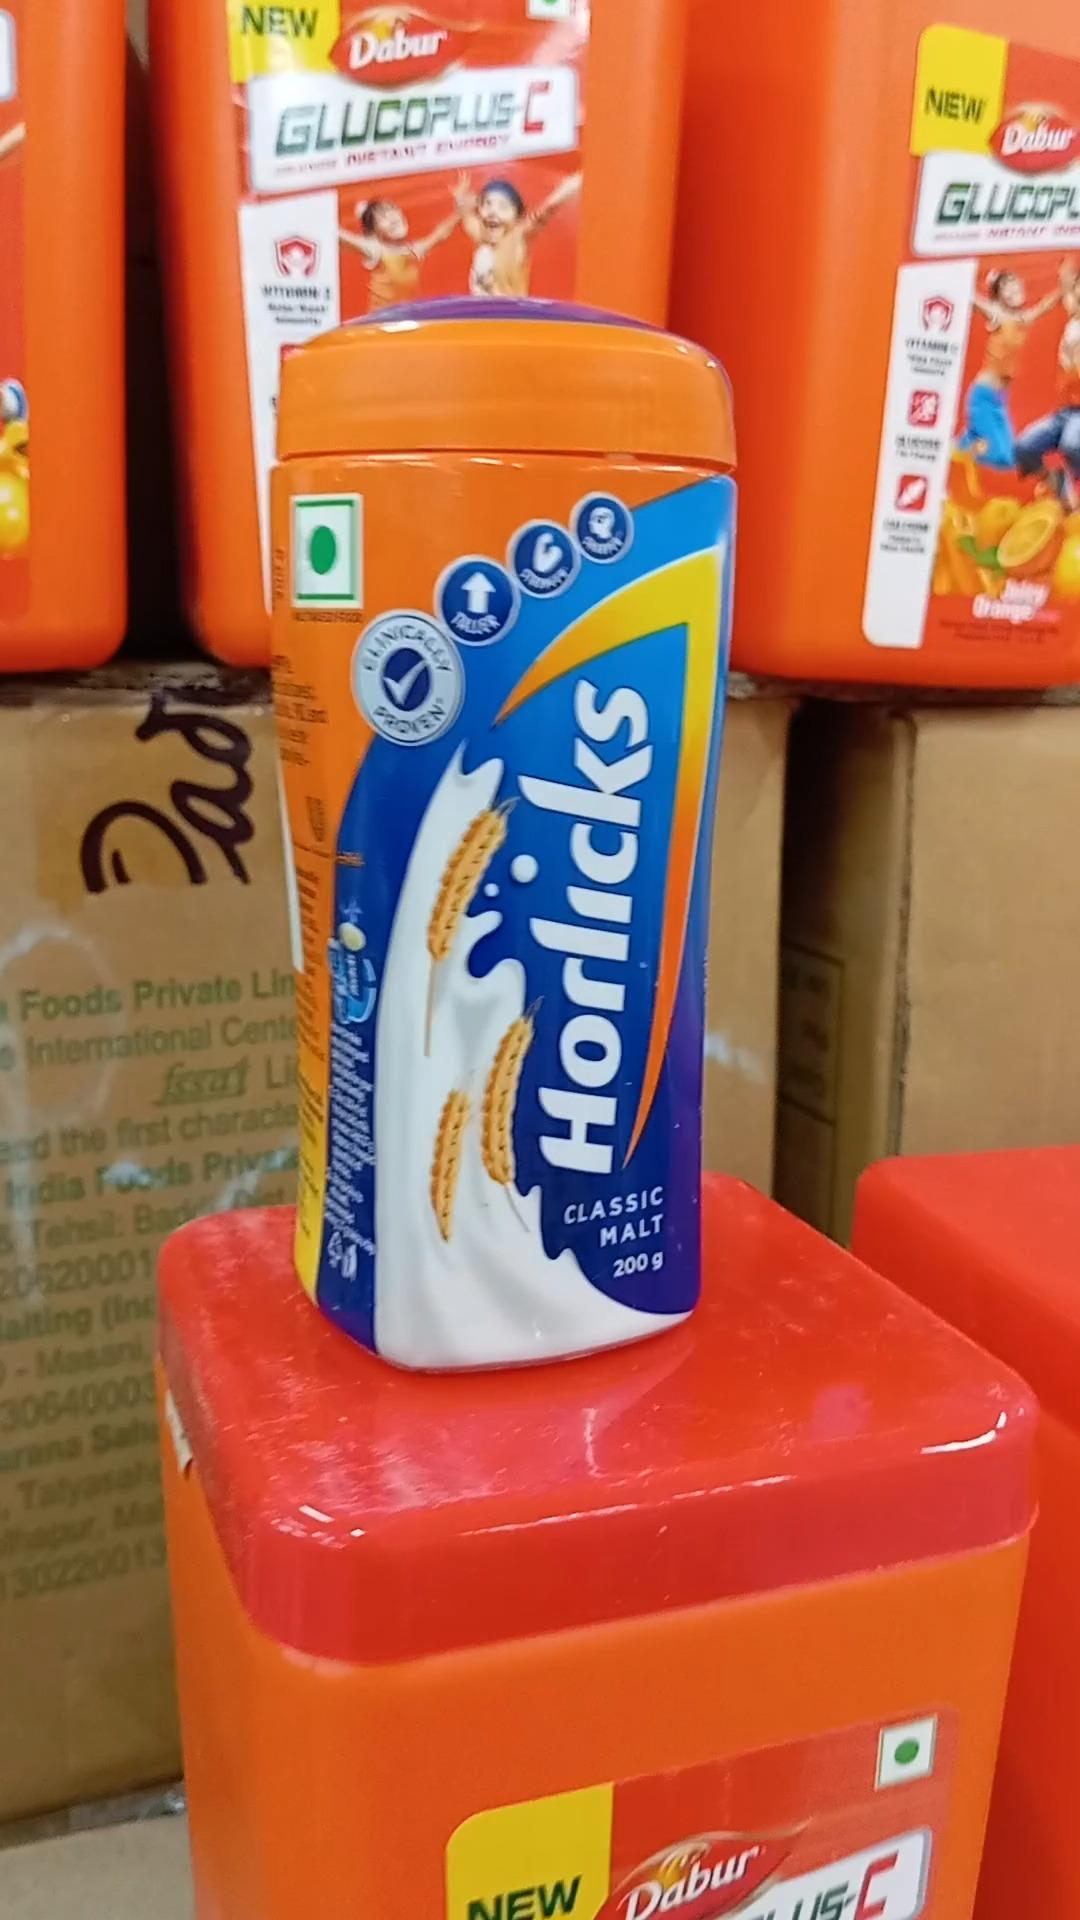HORLICK_CLASSIC_MALT_200_G_JAR: (285, 287, 740, 1365)
